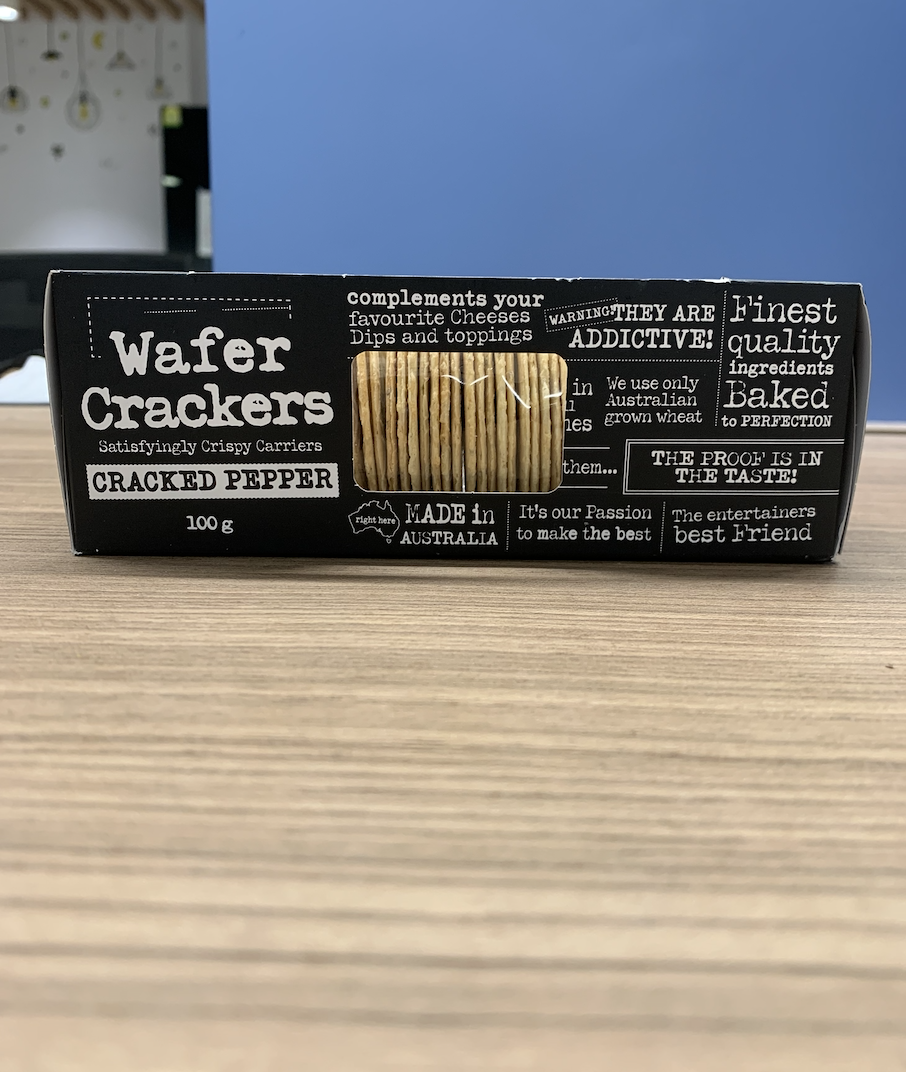crackers_100g-199g: (70, 278, 842, 549)
